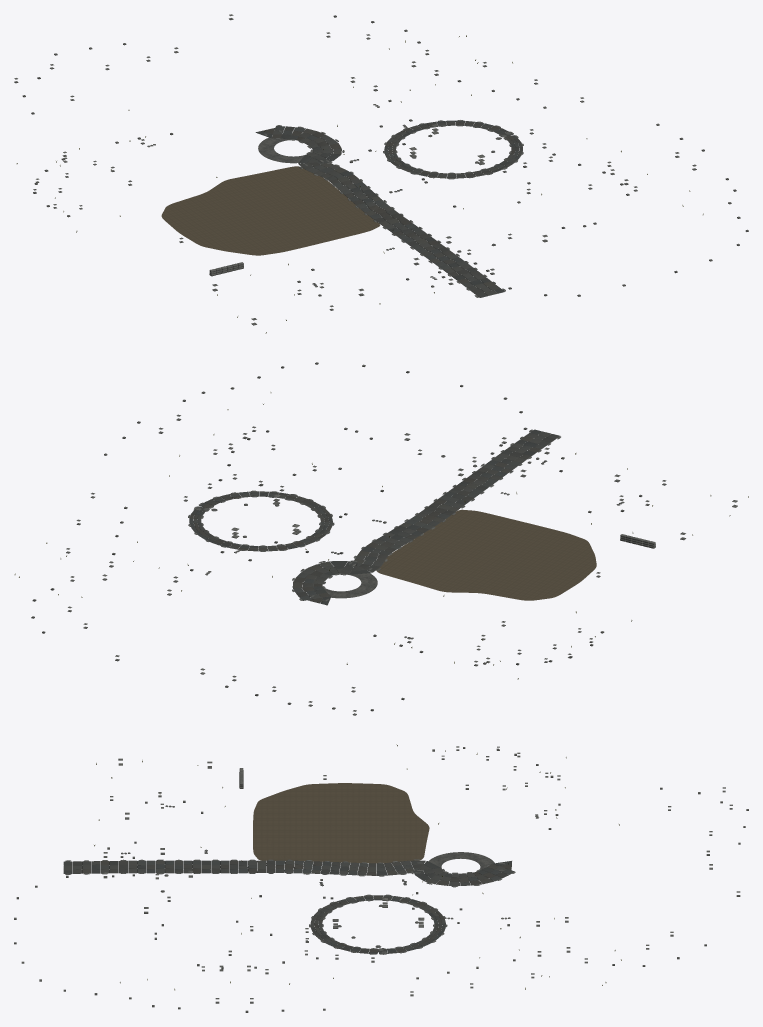
File: ground.gltf
3 views of the same model, one above another, from view 1: azimuth 30°, elevation 25°; view 2: azimuth 150°, elevation 25°; view 3: azimuth 270°, elevation 25° (orthographic). The views are drawn at different scales.
Visible parts, largest first — view 1: 정비 중인 뜰 · 고운 자갈, weathered mountain flagstone paving (×6), irregular worn path stones; view 2: 정비 중인 뜰 · 고운 자갈, weathered mountain flagstone paving (×6), irregular worn path stones; view 3: 정비 중인 뜰 · 고운 자갈, weathered mountain flagstone paving (×7), irregular worn path stones.
Boxes of the visible parts, <box> form: 정비 중인 뜰 · 고운 자갈: <box>161,166,380,255</box>; weathered mountain flagstone paving (×6): <box>272,121,500,287</box>; irregular worn path stones: <box>258,123,429,163</box>; 정비 중인 뜰 · 고운 자갈: <box>376,509,596,600</box>; weathered mountain flagstone paving (×6): <box>212,439,545,600</box>; irregular worn path stones: <box>221,541,377,598</box>; 정비 중인 뜰 · 고운 자갈: <box>253,783,429,863</box>; weathered mountain flagstone paving (×7): <box>91,860,514,953</box>; irregular worn path stones: <box>399,852,504,926</box>.
Size of the model in its own units: 100 by 2.47 by 116.
